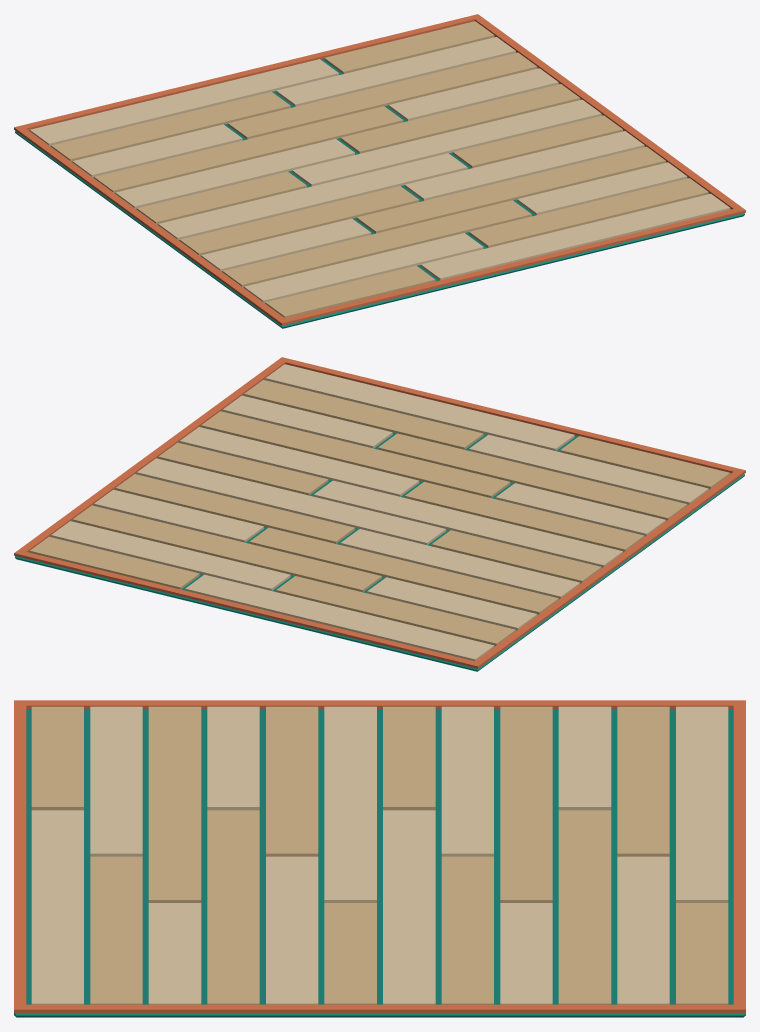
File: tropic-plotfloor.glb
3 renders of one model, top to bottom at view 1: azimuth 30°, elevation 25°; view 2: azimuth 150°, elevation 25°; view 3: azimuth 270°, elevation 25°, orthographic. The views are drawn at different scales.
Visible parts, largest first — view 1: tropic-plotfloor; view 2: tropic-plotfloor; view 3: tropic-plotfloor.
Part boxes in pixels (x1,y1,x2,y2): tropic-plotfloor: (14, 14, 745, 328); tropic-plotfloor: (14, 357, 745, 671); tropic-plotfloor: (14, 700, 745, 1017).
Bounding box in the file's own units: 6 × 0.08 × 6.
